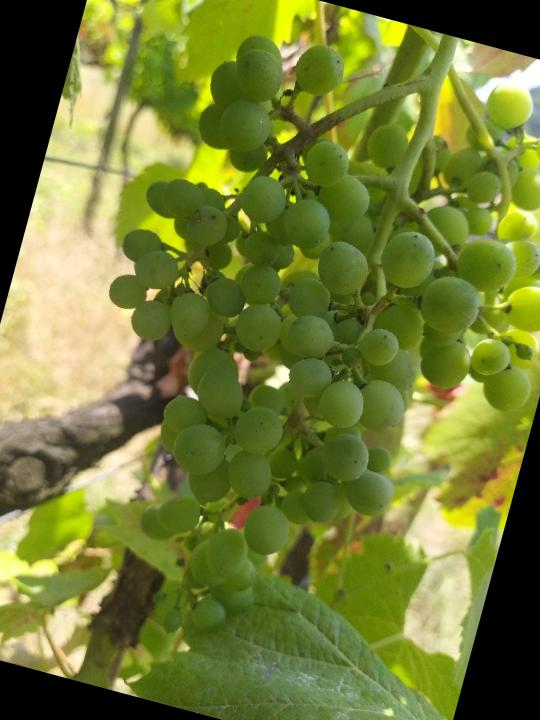grape: (26, 0, 540, 716)
